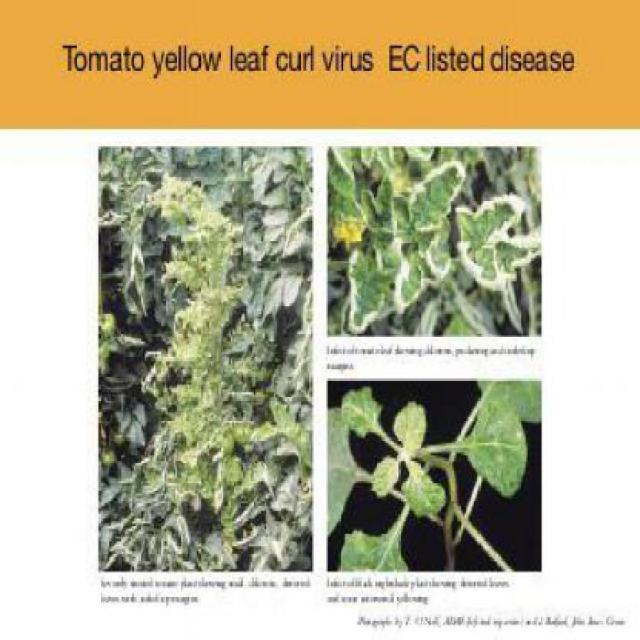Tomato healthy leaf: (460, 392, 540, 503), (457, 192, 537, 296), (409, 154, 471, 232), (343, 243, 394, 331), (386, 400, 434, 463), (388, 243, 430, 311)
